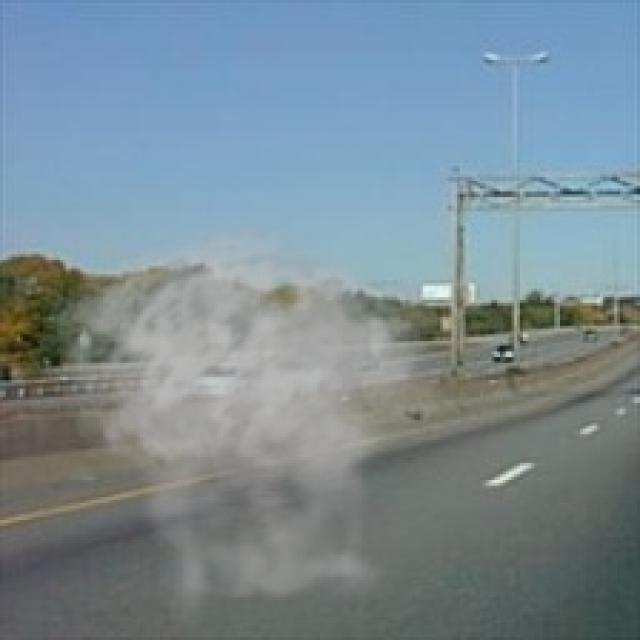Smoke: (43, 225, 460, 638)
